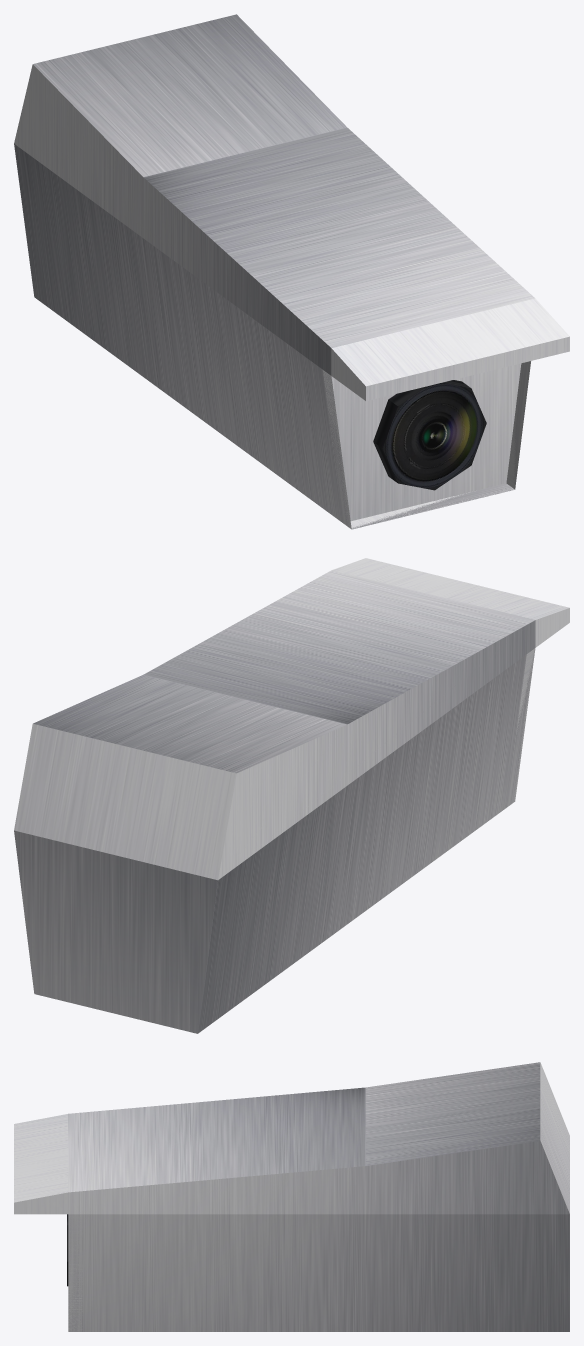
The model's file is Camera.fbx.
3 views of the same model, one above another, from view 1: azimuth 30°, elevation 25°; view 2: azimuth 150°, elevation 25°; view 3: azimuth 270°, elevation 25° (orthographic). The views are drawn at different scales.
Visible parts, largest first — view 1: Cube, Cylinder; view 2: Cube; view 3: Cube.
Part boxes in pixels (x1,y1,x2,y2): Cube: (14,14,569,529); Cylinder: (373,380,486,490); Cube: (14,558,569,1033); Cube: (14,1062,569,1331).
Size of the model in its own units: 28.36 by 33.44 by 84.74.
